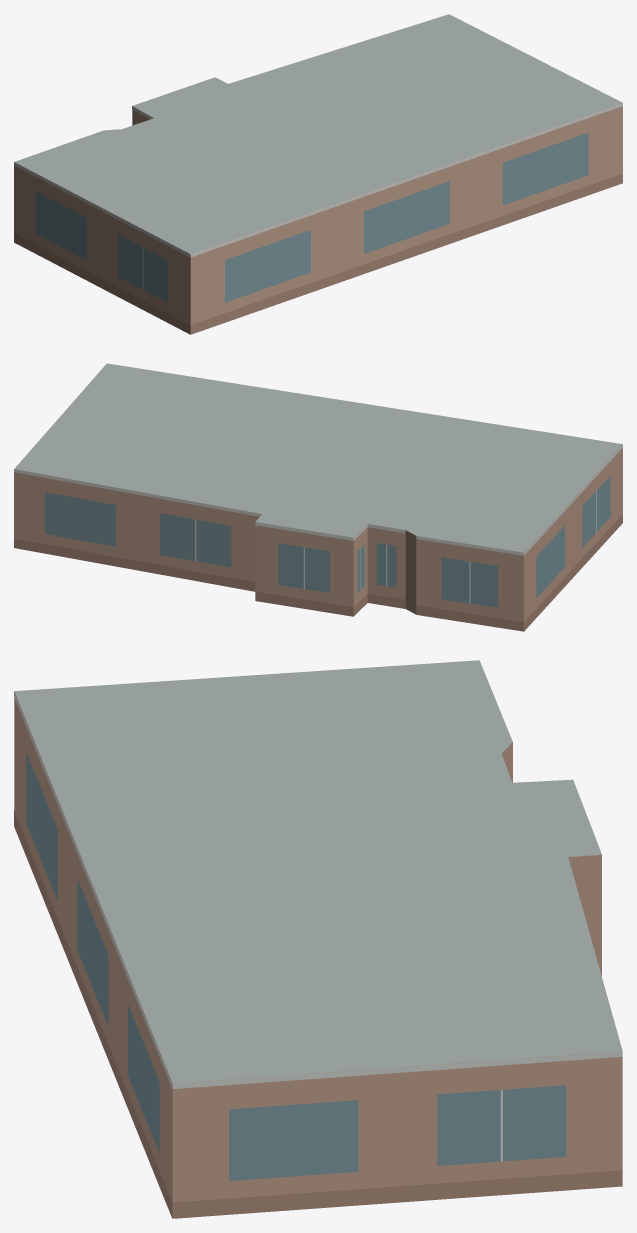
Rendered from survey-upis-32916283.glb.
The picture shows the model from 3 angles, top to bottom: view 1: azimuth 30°, elevation 25°; view 2: azimuth 150°, elevation 25°; view 3: azimuth 270°, elevation 25°; orthographic projection. The views are drawn at different scales.
Visible parts, largest first — view 1: survey-upis-32916283.tmp; view 2: survey-upis-32916283.tmp; view 3: survey-upis-32916283.tmp.
Boxes of the visible parts, left/top/right/bottom form: survey-upis-32916283.tmp: left=14, top=14, right=622, bottom=334; survey-upis-32916283.tmp: left=14, top=363, right=622, bottom=631; survey-upis-32916283.tmp: left=14, top=660, right=622, bottom=1218.
Bounding box in the file's own units: 20.51 × 3.05 × 12.46.
